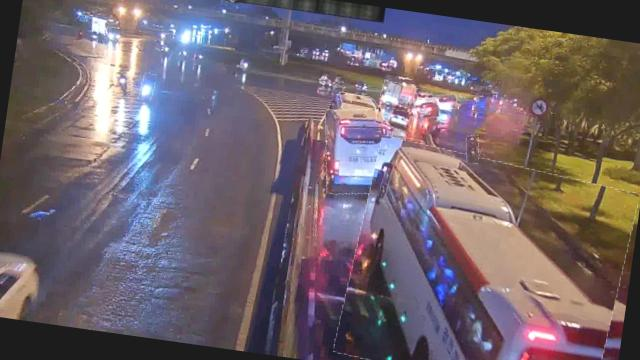Bike: (463, 134, 481, 164), (138, 72, 156, 102), (112, 71, 133, 96)
Bus: (335, 138, 637, 360), (316, 102, 396, 200), (374, 93, 416, 131), (378, 80, 418, 112)
Car: (413, 95, 441, 119), (430, 92, 458, 111)
